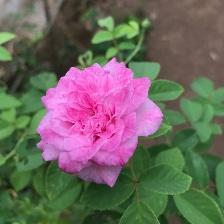rose: (35, 56, 166, 190)
